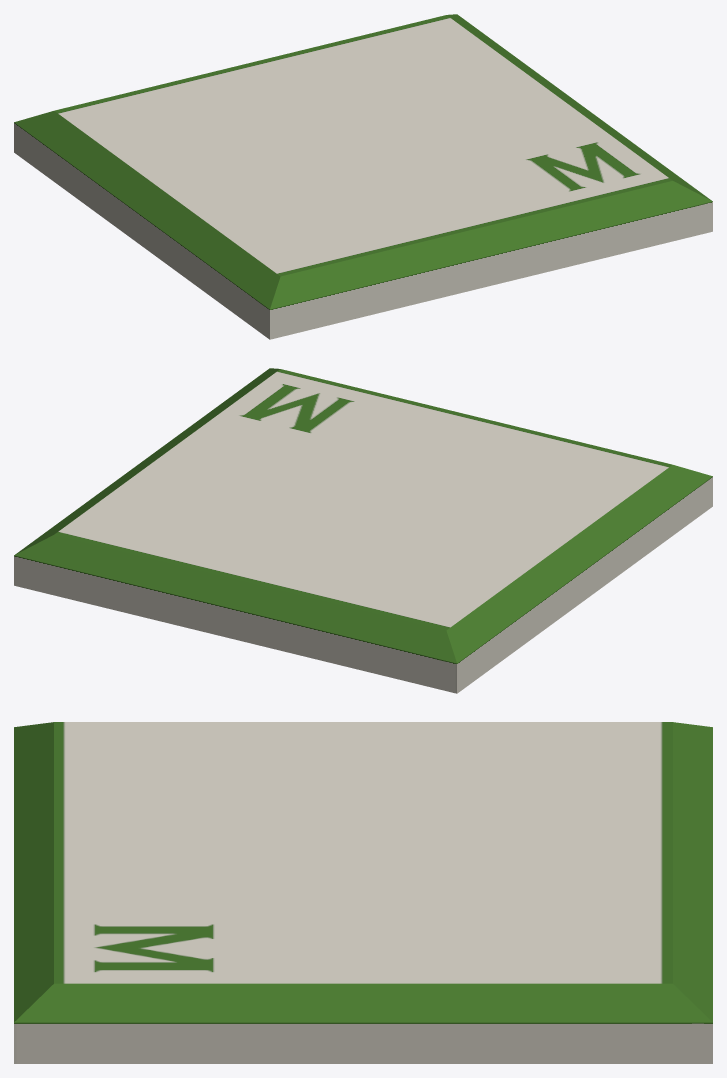
File: Green_PPlate.fbx
3 views of the same model, one above another, from view 1: azimuth 30°, elevation 25°; view 2: azimuth 150°, elevation 25°; view 3: azimuth 270°, elevation 25° (orthographic). The views are drawn at different scales.
Visible parts, largest first — view 1: pCube1; view 2: pCube1; view 3: pCube1.
Part boxes in pixels (x1,y1,x2,y2): pCube1: (14,14,712,339); pCube1: (14,368,712,693); pCube1: (14,722,712,1063).
Bounding box in the file's own units: 100 × 10 × 100.
Materials: 1 (1 with a texture image).
